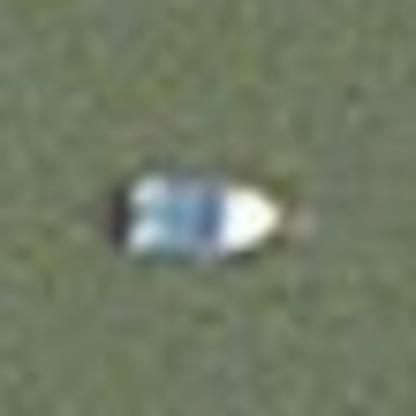ship: (103, 154, 301, 266)
